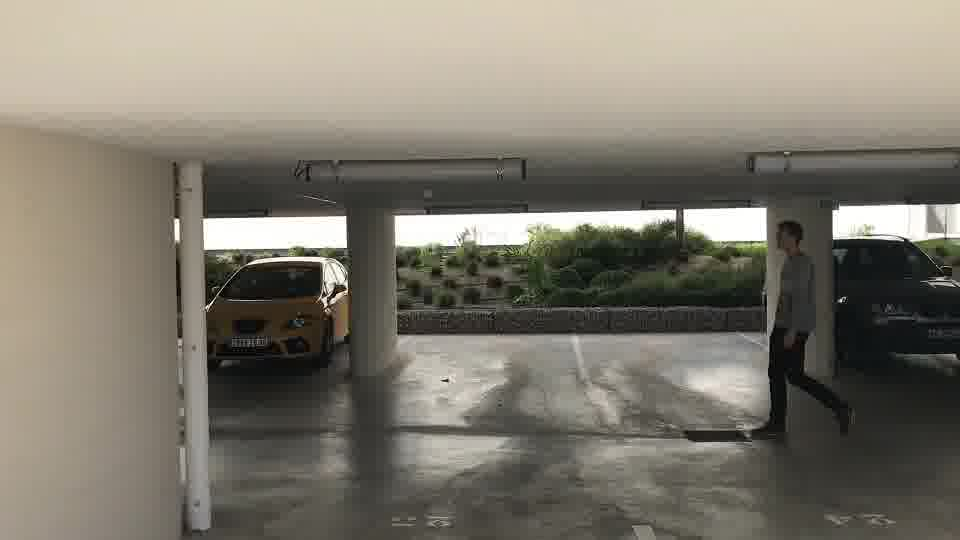jugador: (738, 217, 850, 453)
